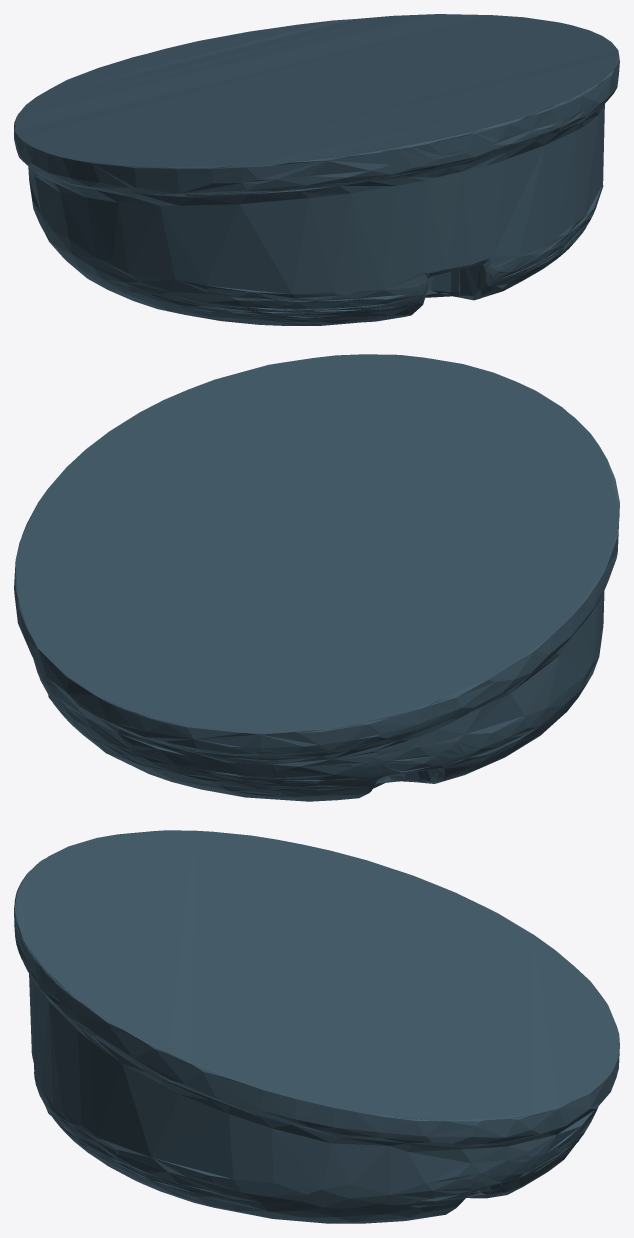
The model's file is wrist2_1.obj.
3 views of the same model, one above another, from view 1: azimuth 30°, elevation 25°; view 2: azimuth 150°, elevation 25°; view 3: azimuth 270°, elevation 25° (orthographic).
Size of the model in its own units: 0.0644 by 0.0273 by 0.0642.
